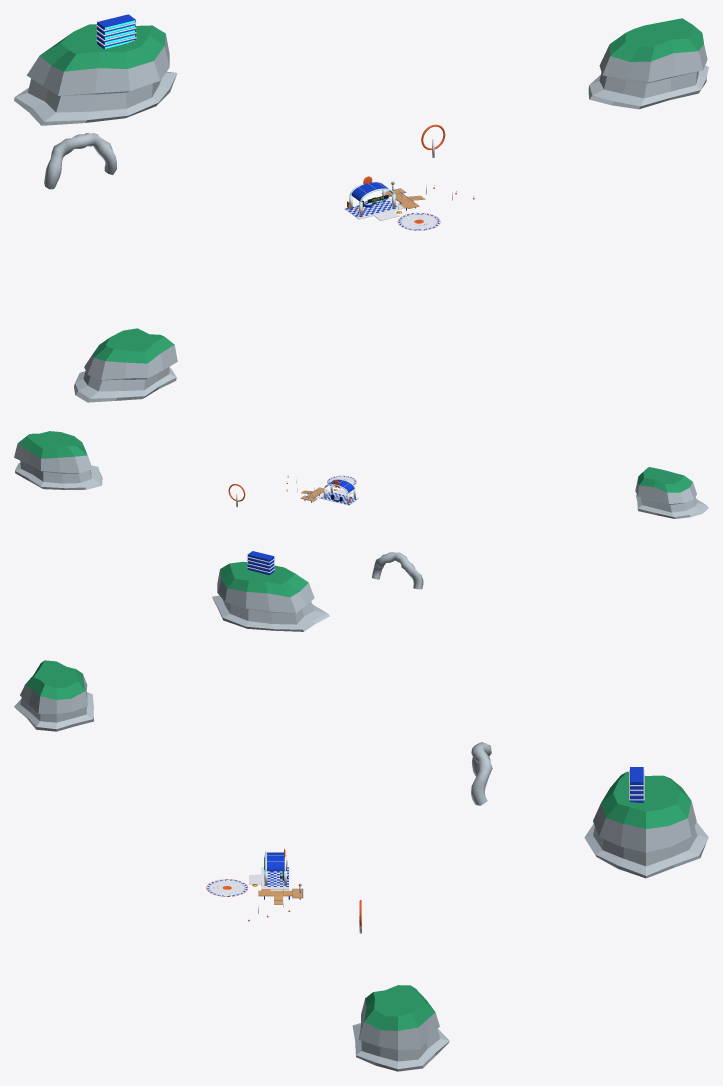
The model's file is boom-fm-shoreline-CTQVDJIy.glb.
3 views of the same model, one above another, from view 1: azimuth 30°, elevation 25°; view 2: azimuth 150°, elevation 25°; view 3: azimuth 270°, elevation 25° (orthographic). The views are drawn at different scales.
Visible parts, largest first — view 1: kit_Limestone, kit_Ceramic_White, kit_Enamel_Cobalt; view 2: kit_Limestone, kit_Enamel_Cobalt, kit_Ceramic_White; view 3: kit_Limestone, kit_Ceramic_White, kit_Enamel_Cobalt.
Boxes of the visible parts, x1,y1,x2,y2 form: kit_Limestone: (14, 18, 708, 402); kit_Ceramic_White: (96, 22, 452, 230); kit_Enamel_Cobalt: (97, 14, 439, 230); kit_Limestone: (14, 431, 708, 631); kit_Enamel_Cobalt: (247, 476, 356, 575); kit_Ceramic_White: (236, 476, 358, 572); kit_Limestone: (14, 660, 708, 1071); kit_Ceramic_White: (207, 769, 644, 933); kit_Enamel_Cobalt: (207, 767, 643, 900).
Size of the model in its own units: 294 by 26.6 by 224.
